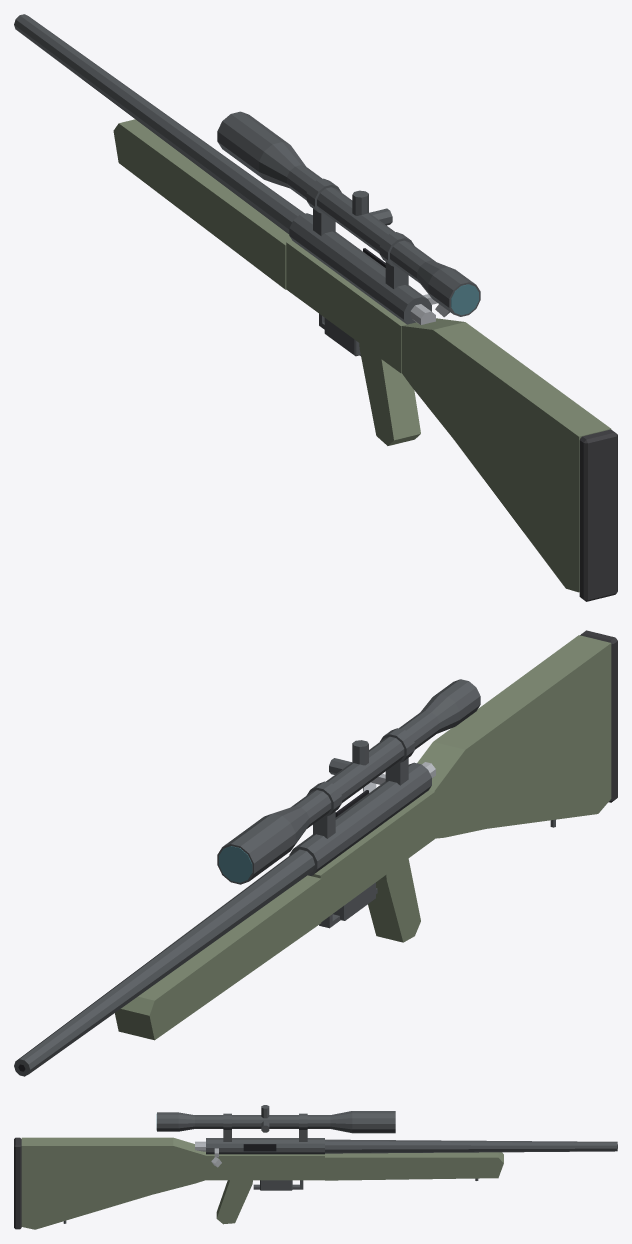
3 renders of one model, top to bottom at view 1: azimuth 30°, elevation 25°; view 2: azimuth 150°, elevation 25°; view 3: azimuth 270°, elevation 25°, orthographic. The views are drawn at different scales.
Visible parts, largest first — view 1: body; view 2: body, magazine; view 3: body, magazine, bolt.
Part boxes in pixels (left/top/right/bottom): body: left=14, top=14, right=617, bottom=601; body: left=14, top=630, right=617, bottom=1076; magazine: left=333, top=882, right=375, bottom=920; body: left=14, top=1105, right=617, bottom=1229; magazine: left=260, top=1180, right=292, bottom=1190; bolt: left=195, top=1141, right=221, bottom=1167.
Size of the model in its own units: 0.0719 by 0.242 by 1.11.
